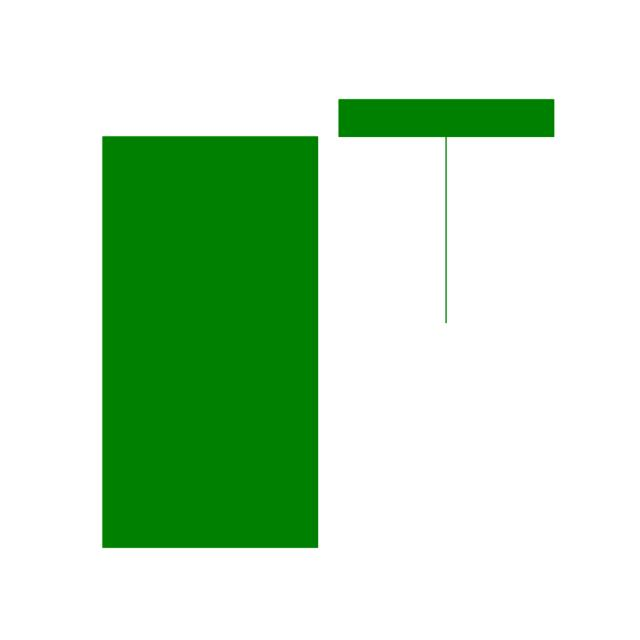Bullish Marubozu: (98, 131, 322, 550)
Dragonfly Doji: (327, 95, 565, 325)
